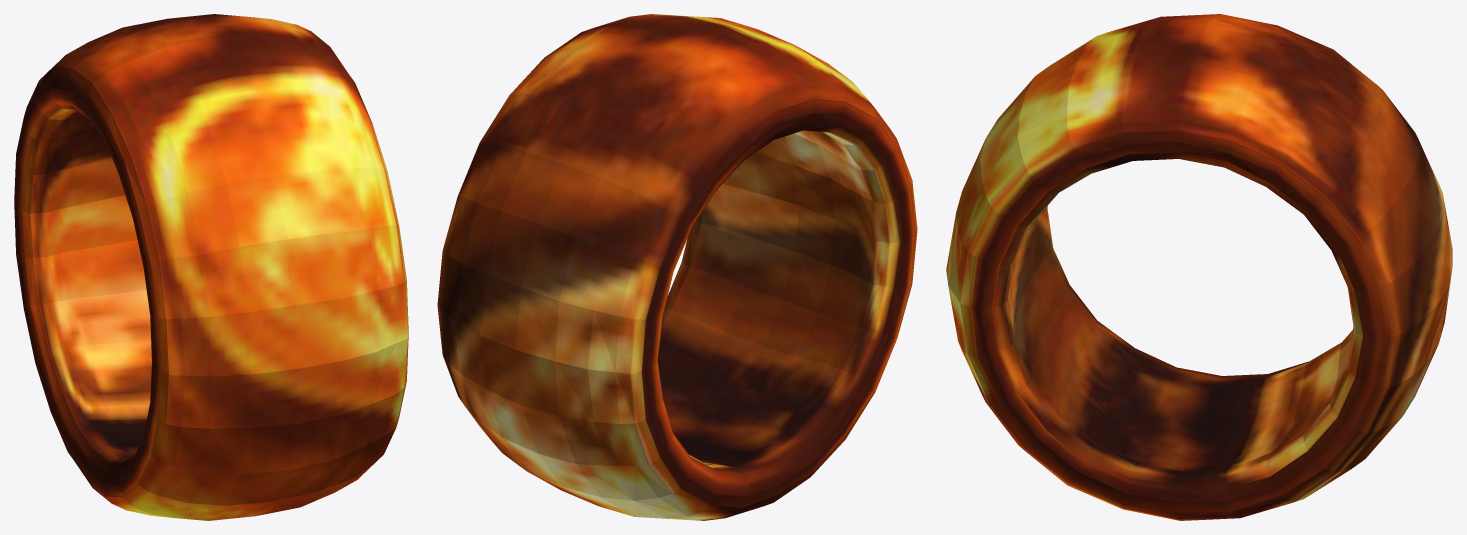
Rendered from invisibl.obj.
3 views of the same model, side by side, from view 1: azimuth 30°, elevation 25°; view 2: azimuth 150°, elevation 25°; view 3: azimuth 270°, elevation 25° (orthographic).
Size of the model in its own units: 5.59 by 8.47 by 8.58.
Materials: 1 (1 with a texture image).
